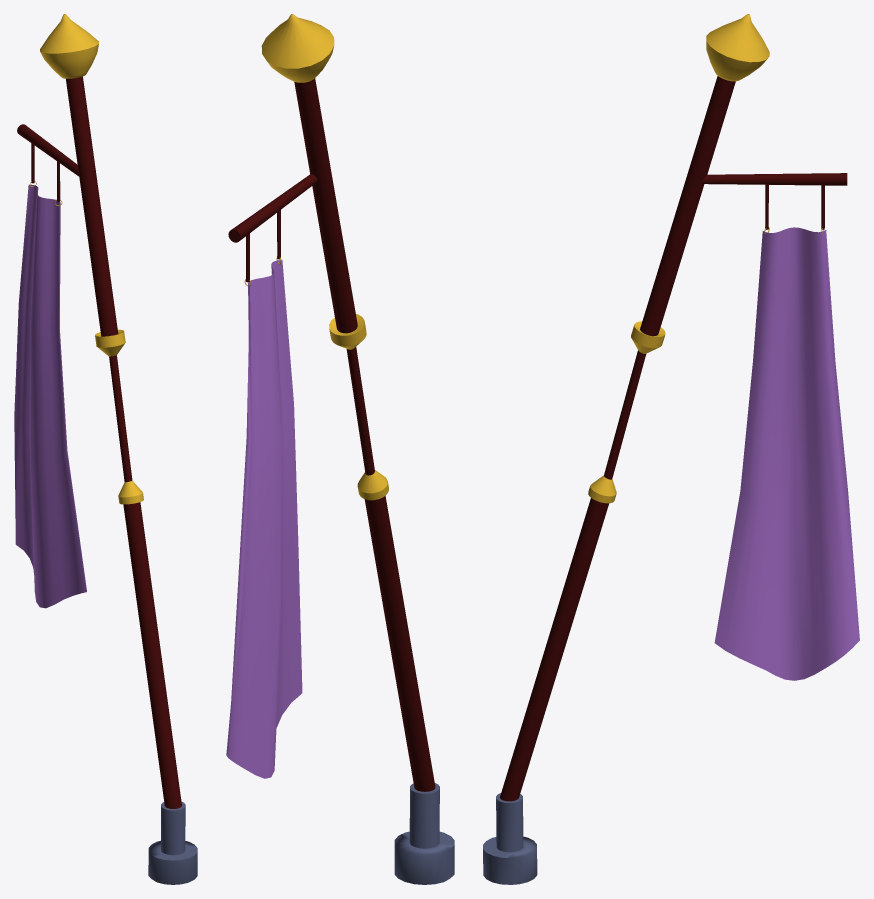
File: banderolaflip.fbx
The picture shows the model from 3 angles, left to right: view 1: azimuth 30°, elevation 25°; view 2: azimuth 150°, elevation 25°; view 3: azimuth 270°, elevation 25°; orthographic projection. The views are drawn at different scales.
Visible parts, largest first — view 1: Object001; view 2: Object001; view 3: Object001.
Part boxes in pixels (x1=…): Object001: x1=14, y1=14, x2=197, y2=884; Object001: x1=226, y1=14, x2=454, y2=884; Object001: x1=483, y1=14, x2=859, y2=884.
Size of the model in its own units: 211 by 2997 by 1192.
